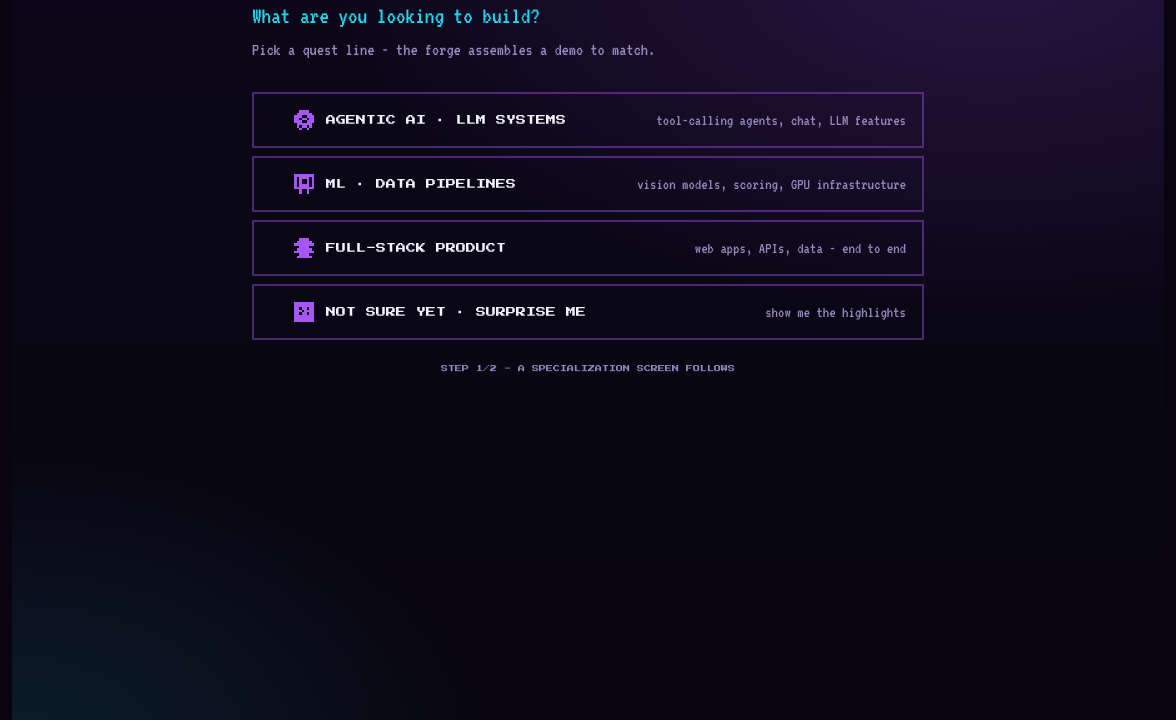
it: surprise-me skips the specialization screen straight to the forge
What coordinates should you click on to do the following:
click the button "NOT SURE YET · SURPRISE ME show me the highlights"
I would click on:
 (588, 312)
Its box is x1=252 y1=284 x2=924 y2=340.
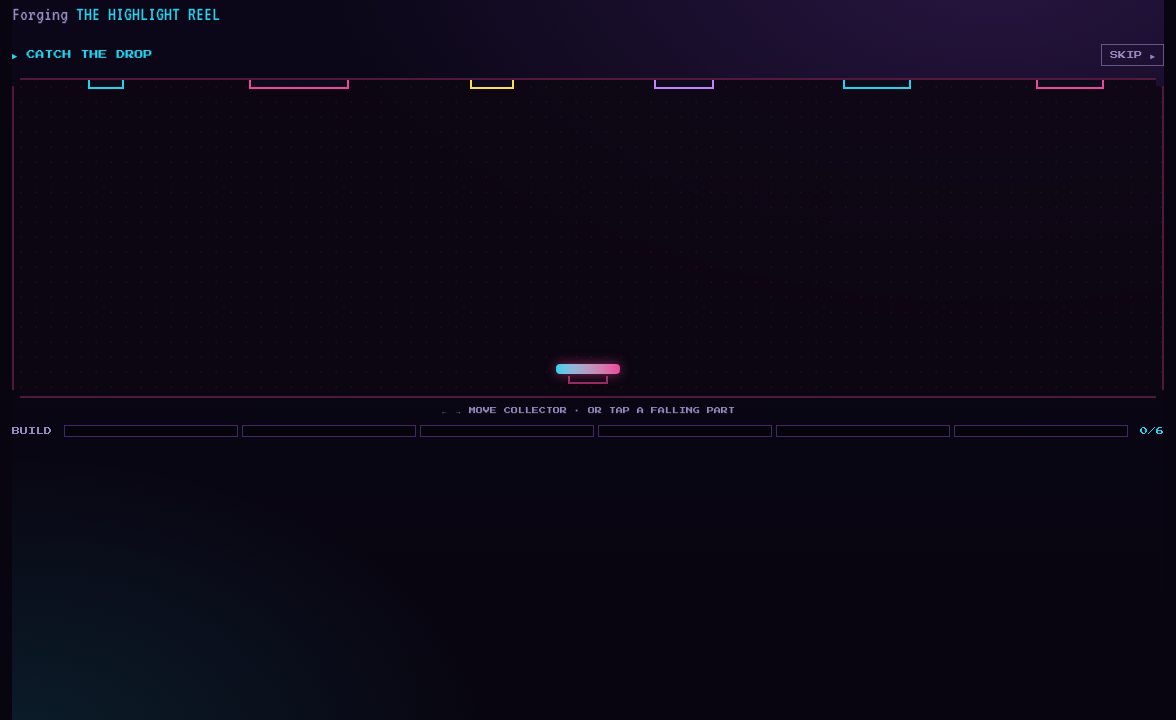
Check: the element with test id "forge" is shown, box x1=12 y1=44 x2=1164 y2=436
